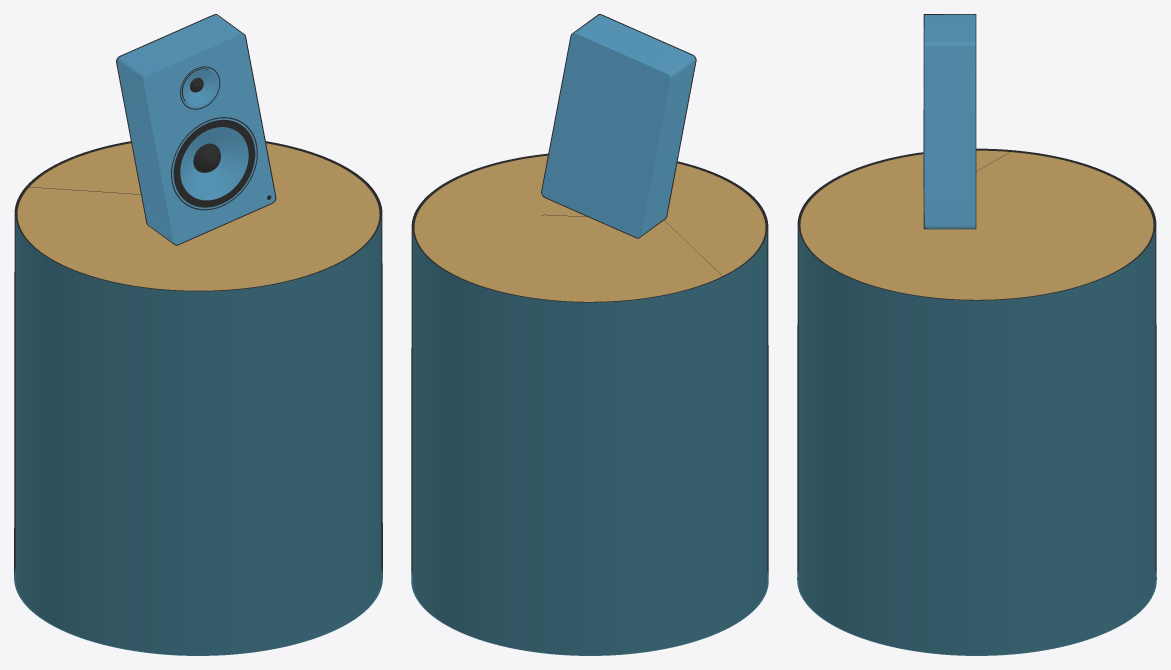
Rendered from SpeakerStage.glb.
The picture shows the model from 3 angles, left to right: view 1: azimuth 30°, elevation 25°; view 2: azimuth 150°, elevation 25°; view 3: azimuth 270°, elevation 25°; orthographic projection. The views are drawn at different scales.
Parts seen in each view (by area): view 1: WOOFER.001; view 2: WOOFER.001; view 3: WOOFER.001.
Boxes of the visible parts, <box> form: WOOFER.001: <box>14,14,382,655</box>; WOOFER.001: <box>411,14,768,655</box>; WOOFER.001: <box>797,14,1156,655</box>.
Size of the model in its own units: 2.89 by 4.85 by 2.89.
